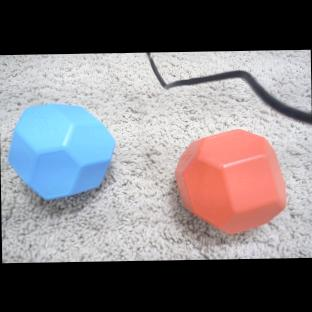V5_BLUE: (9, 103, 115, 199)
V5_RED: (175, 127, 290, 236)
